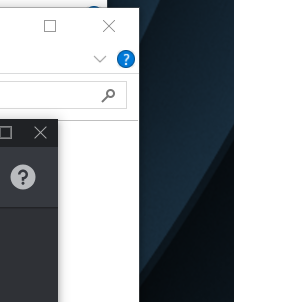close: (91, 12, 127, 41), (27, 120, 55, 145)
